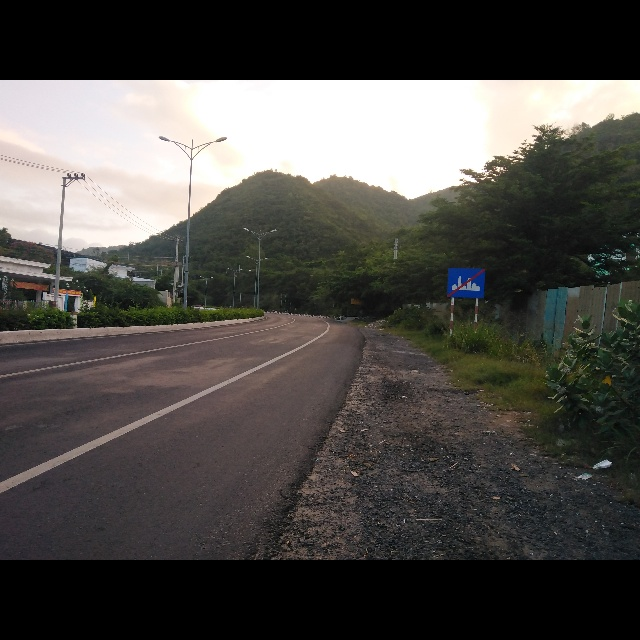Hết khu đông dân cư: (446, 268, 484, 299)
